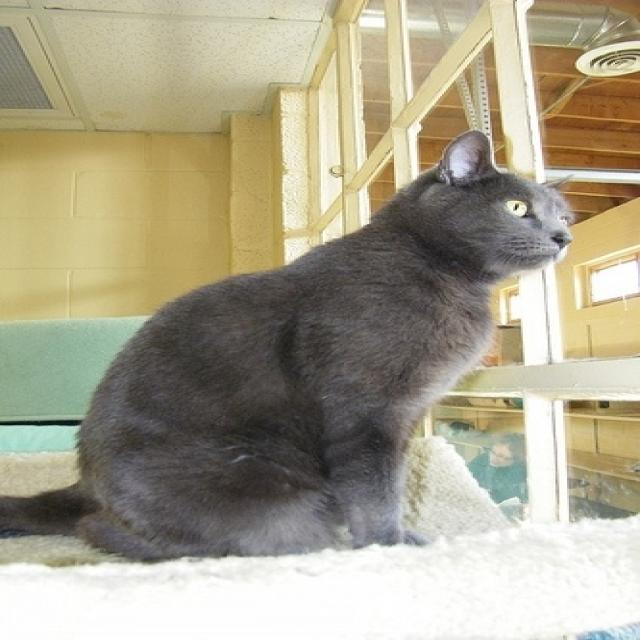cat: (67, 131, 578, 564)
